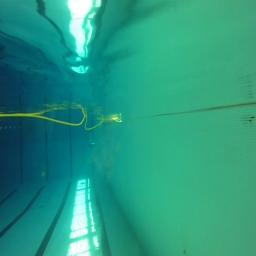Full: (90, 143, 96, 147)
